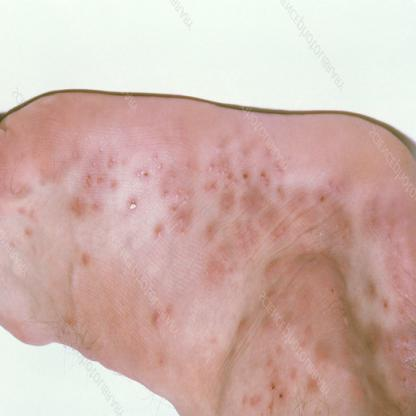Bed Bug: (200, 136, 290, 304), (126, 148, 194, 246), (292, 180, 356, 254), (236, 347, 298, 415), (66, 145, 121, 221), (299, 321, 337, 401), (360, 192, 404, 249), (362, 272, 410, 318), (384, 330, 416, 395), (3, 208, 38, 252), (148, 302, 180, 336), (259, 312, 290, 340), (8, 314, 34, 342), (360, 326, 382, 358), (34, 170, 60, 192), (235, 312, 250, 346), (348, 380, 366, 408), (56, 311, 77, 333), (154, 349, 167, 375), (80, 248, 94, 269), (16, 149, 27, 169), (206, 336, 218, 352)
